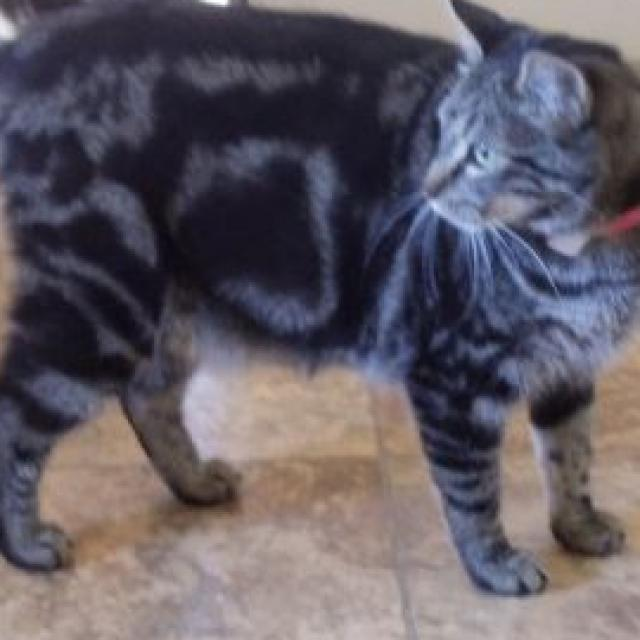Bengal: (0, 0, 640, 600)
